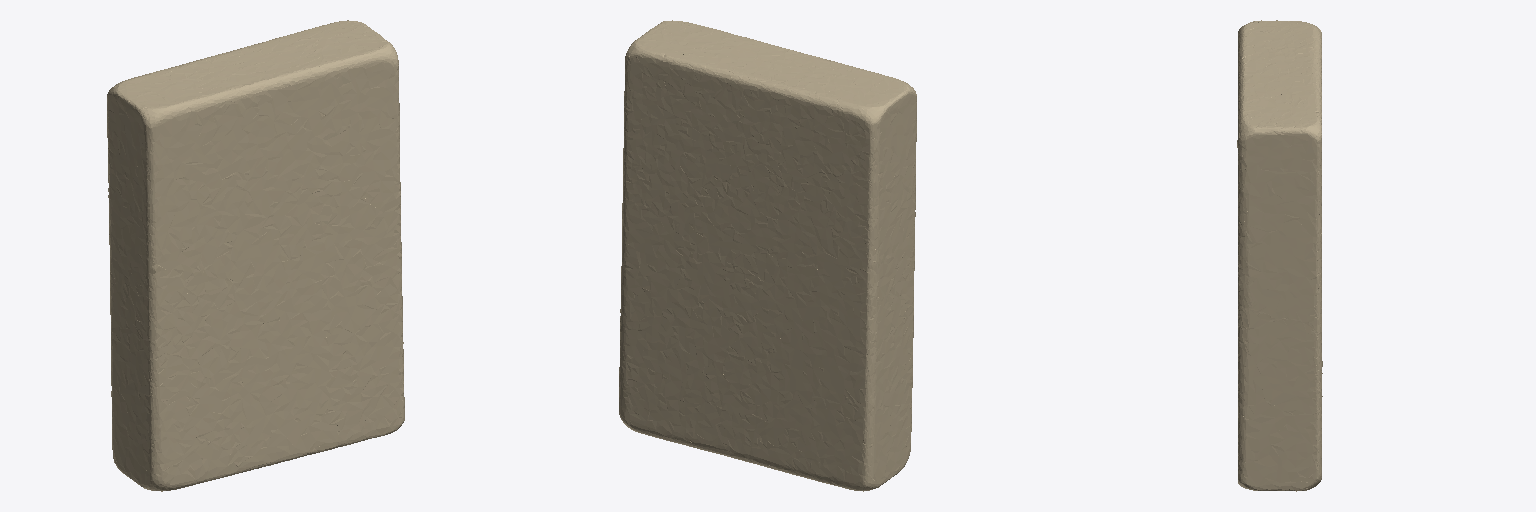
URDF robot description (object_96945373046044):
<?xml version="1.0"?>
<!-- Auto-generated by convert_assets.py from objects/96945373046044.
     Inertial: density 800.0 kg/m^3, raw mass 0.109077 kg clamped to 0.109077 kg (inertia scaled to match). -->
<robot name="object_96945373046044">
  <link name="baseLink">
    <inertial>
      <origin rpy="0 0 0" xyz="-0.0110615277 0.0101971422 -0.000849843268"/>
      <mass value="0.109076531"/>
      <inertia ixx="8.80069532e-05" ixy="9.49192065e-09" ixz="5.85511571e-07" iyy="0.0001239732" iyz="4.52856071e-08" izz="4.41358061e-05"/>
    </inertial>
    <visual>
      <origin rpy="0 0 0" xyz="0 0 0"/>
      <geometry><mesh filename="../visual.obj" scale="1.0 1.0 1.0"/></geometry>
      <material name="mat"><color rgba="0.75 0.7 0.6 1"/></material>
    </visual>
    <collision name="collision_0">
      <origin rpy="0 0 0" xyz="0 0 0"/>
      <geometry><mesh filename="../convex/0.obj" scale="1.0 1.0 1.0"/></geometry>
    </collision>
  </link>
</robot>

--- Render facts (derived) ---
The picture shows the robot from 3 angles, left to right: view 1: azimuth 30°, elevation 25°; view 2: azimuth 150°, elevation 25°; view 3: azimuth 270°, elevation 25°; orthographic projection.
Robot: object_96945373046044 — 1 links, 0 joints (none); root link baseLink; default pose: every joint at zero.
Links seen in each view (by area): view 1: baseLink; view 2: baseLink; view 3: baseLink.
Link boxes in pixels (x1,y1,x2,y2): baseLink: (107,20,404,491); baseLink: (619,20,916,491); baseLink: (1237,20,1322,491).
Size in the robot's own frame: 0.0673 by 0.0204 by 0.0967 metres.
1 mesh visuals loaded from 1 distinct referenced files (1 OBJ).
